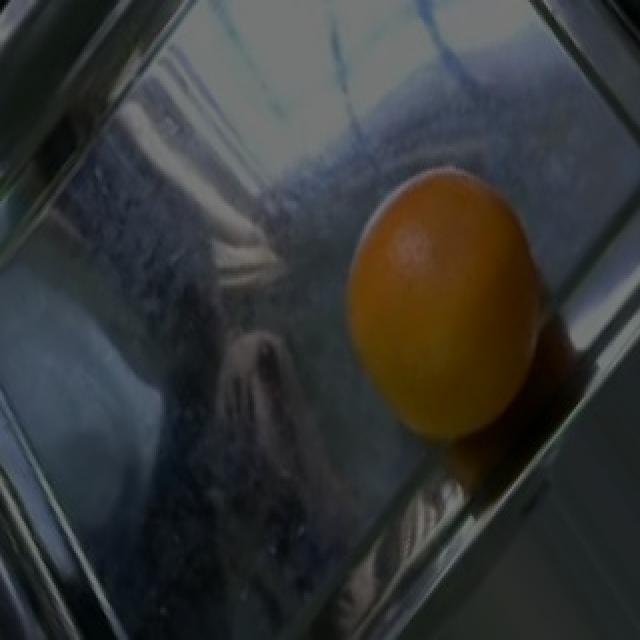Fruit: (322, 144, 568, 469)
